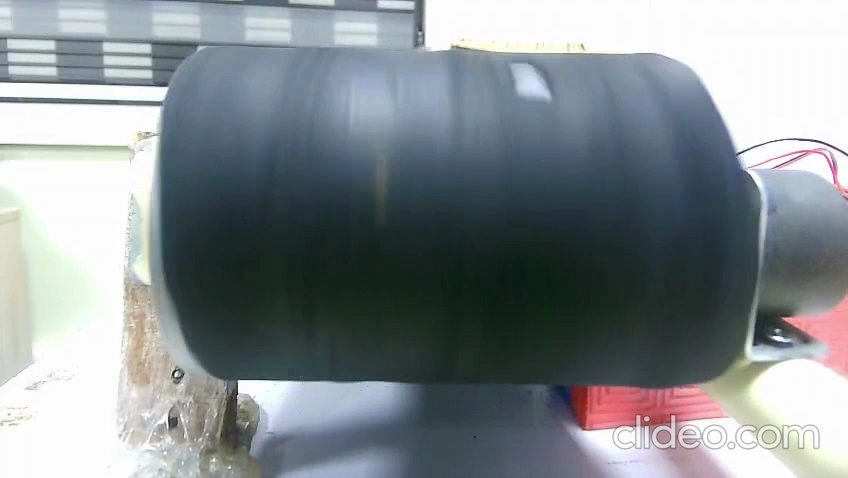hole: (504, 59, 555, 110)
